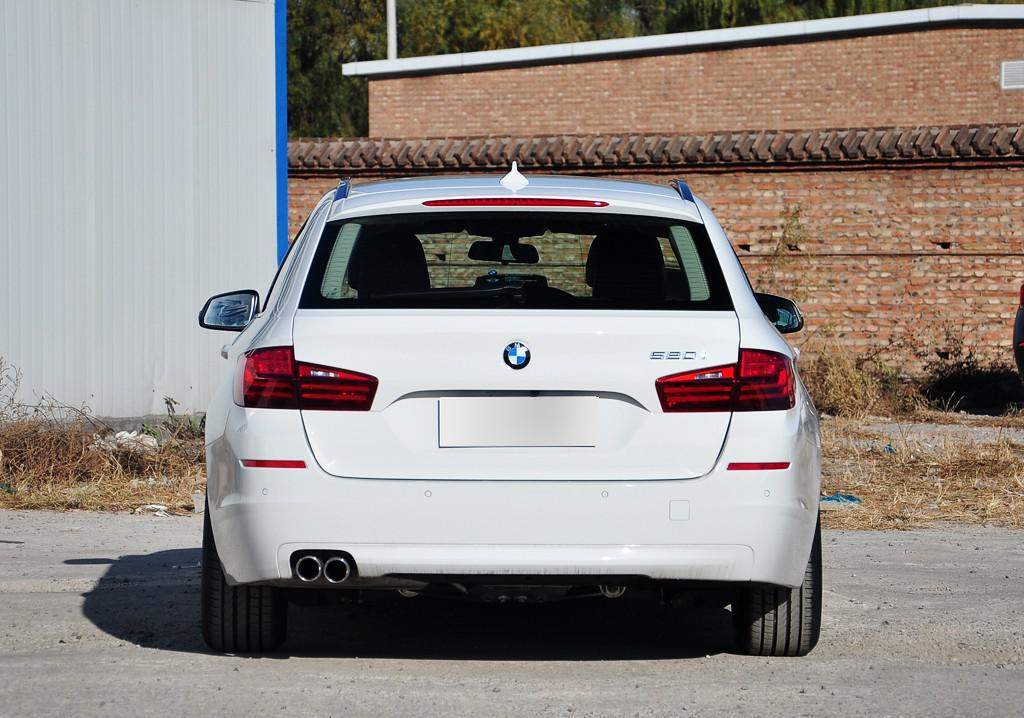Wagon: (196, 160, 825, 657)
